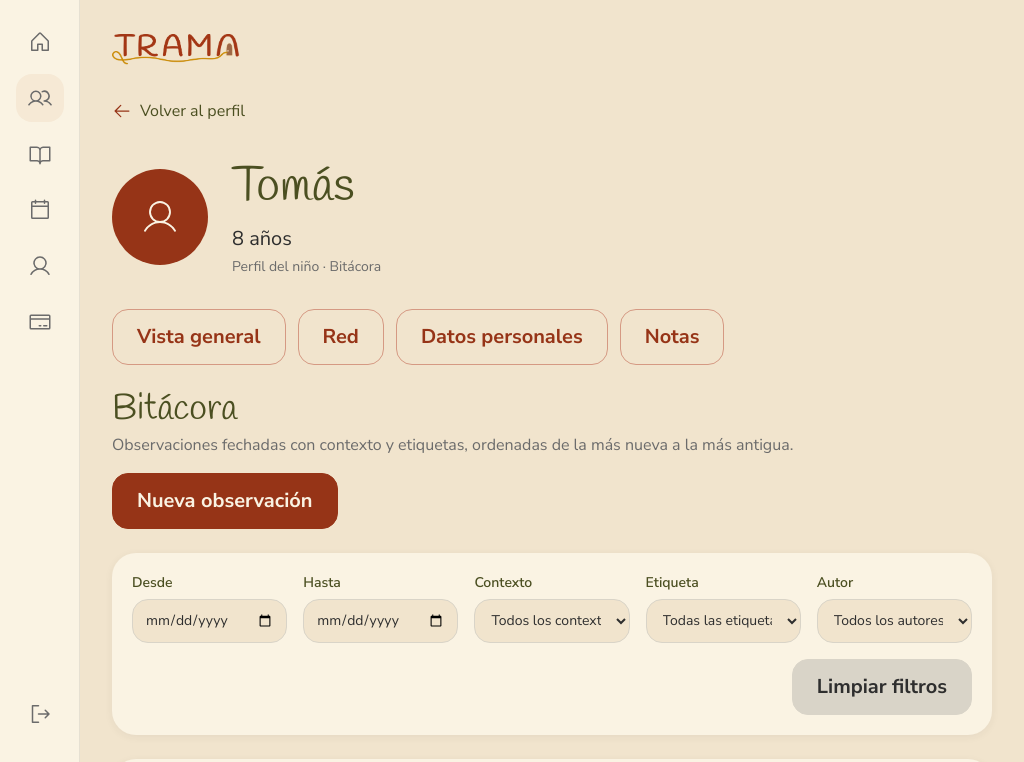
Bitácora de observaciones (Tarea 4.0) › permite editar la fecha y hora por defecto y cargar una observación nueva en la bitácora
Click the button "Nueva observación" at (225, 501), box [112,473,338,529]
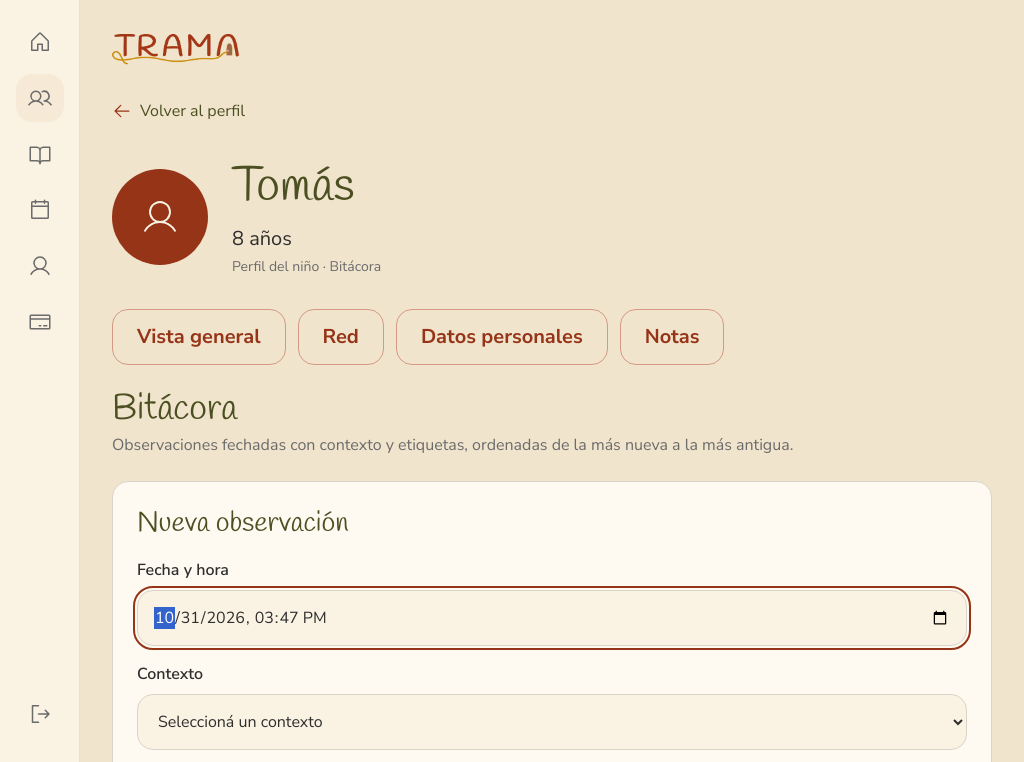
Replace the text in the field labelled "Fecha y hora" with "2026-10-24T11:45" at (552, 618), box [137,590,967,646]
Select "Consultorio" in the dropdown labelled "Contexto" at (552, 722), box [137,694,967,750]
(page scrolled)
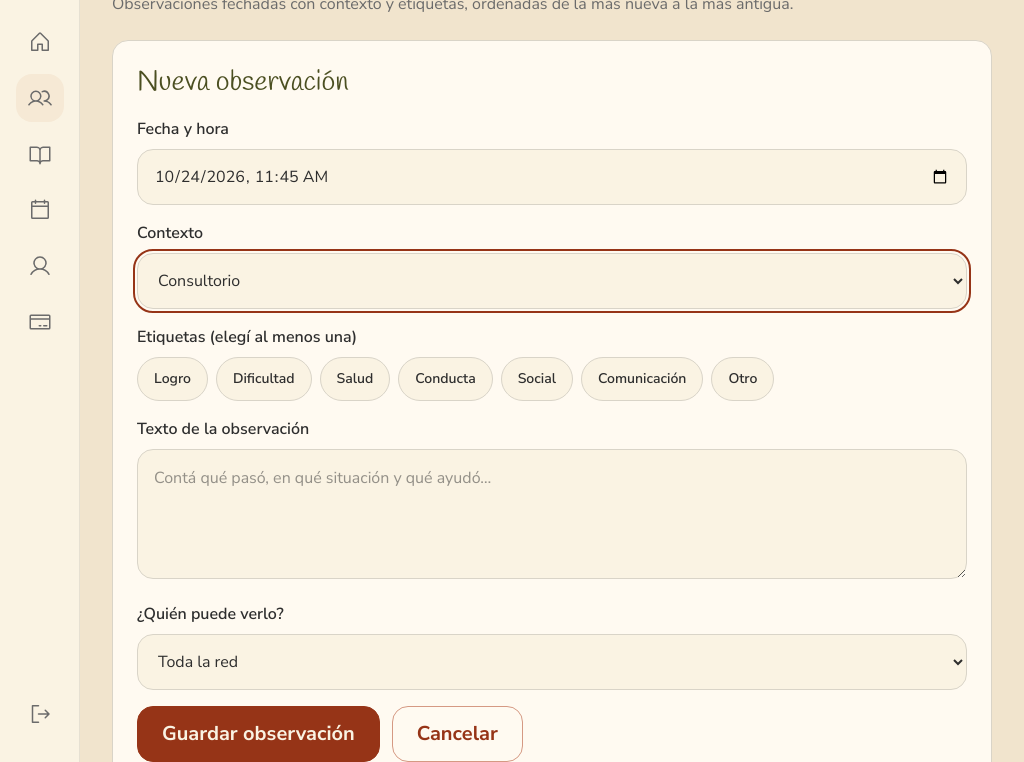
Click the checkbox labelled "Logro" at (172, 379), box [137,357,208,401]
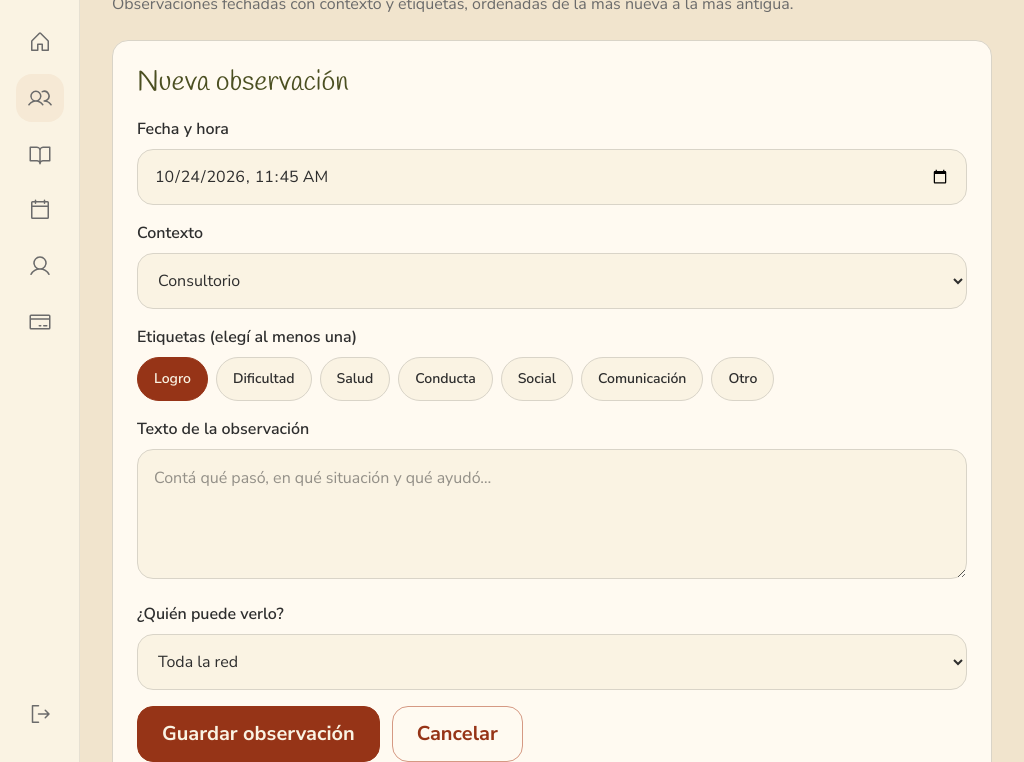
Click the checkbox labelled "Comunicación" at (642, 379), box [581,357,703,401]
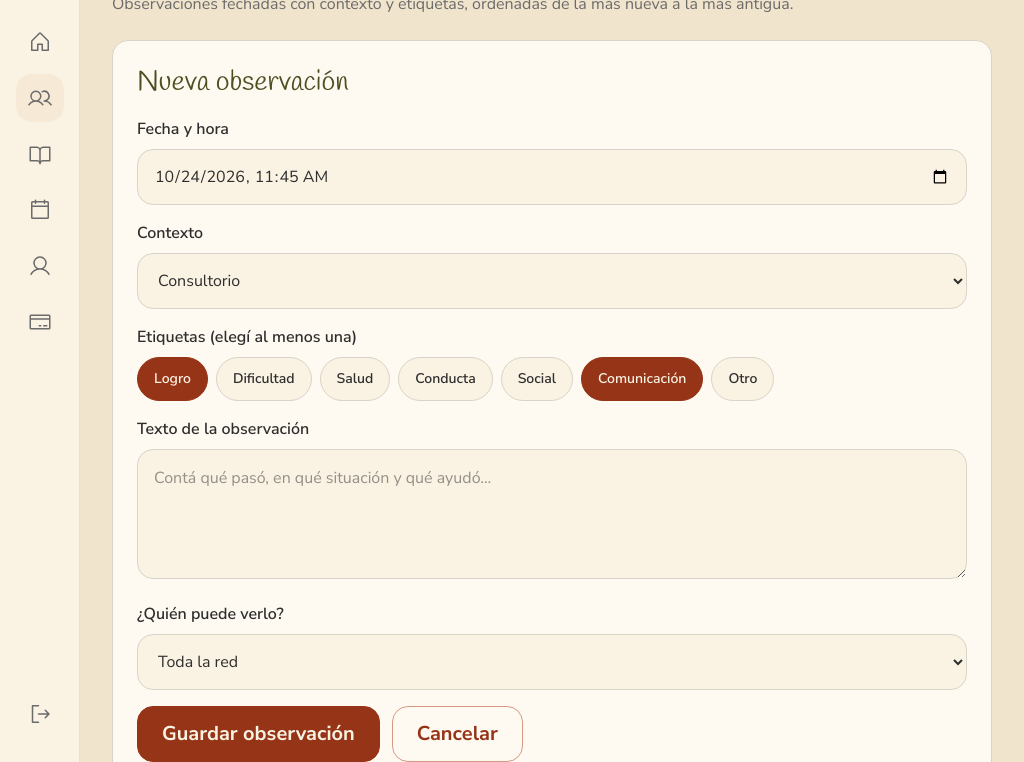
Type "Armó una frase nueva durante la sesión de fonoaudiología." into the text box labelled "Texto de la observación" at (552, 514), box [137,449,967,579]
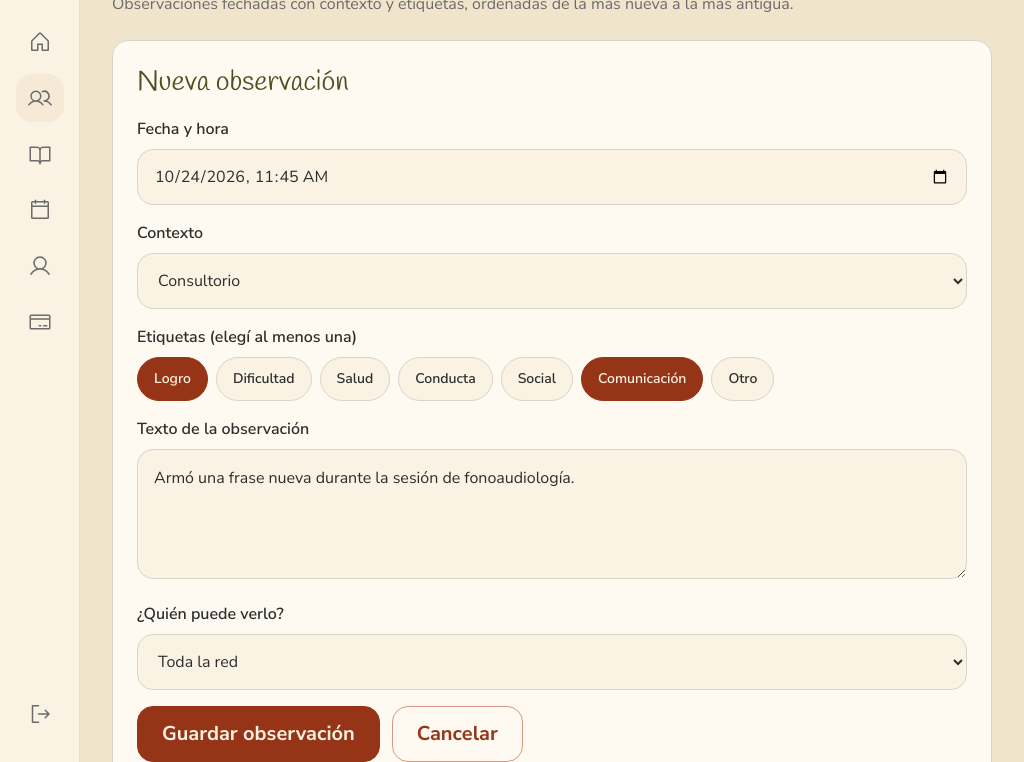
Click the button "Guardar observación" at (258, 734), box [137,706,380,761]
(page scrolled)
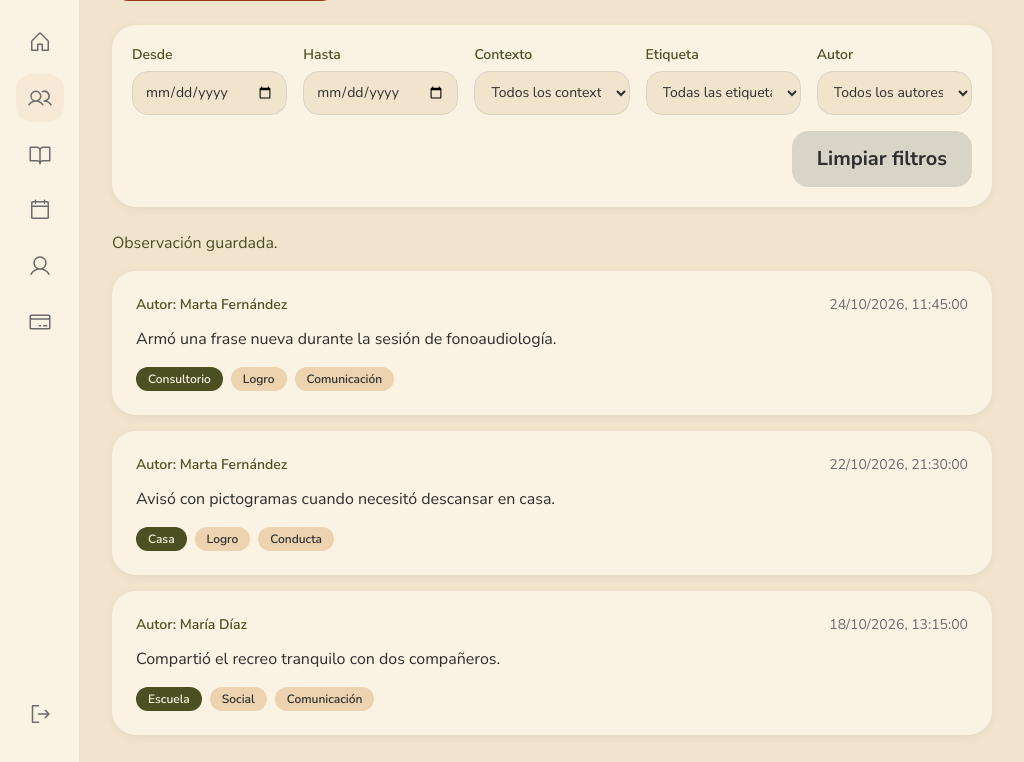
Now the text "Observación guardada." is shown, box [112,232,278,254]
Now the text "Armó una frase nueva durante la sesión de fonoaudiología." is shown, box [136,328,556,350]
Now the text "Consultorio" is shown, box [136,367,223,391]
